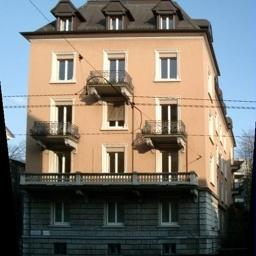building: (23, 0, 210, 256)
